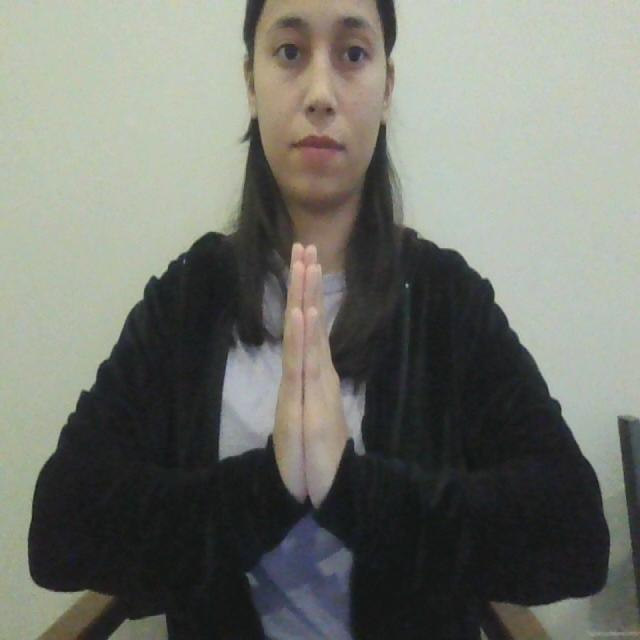Ozur-Dilemek: (268, 238, 353, 520)
